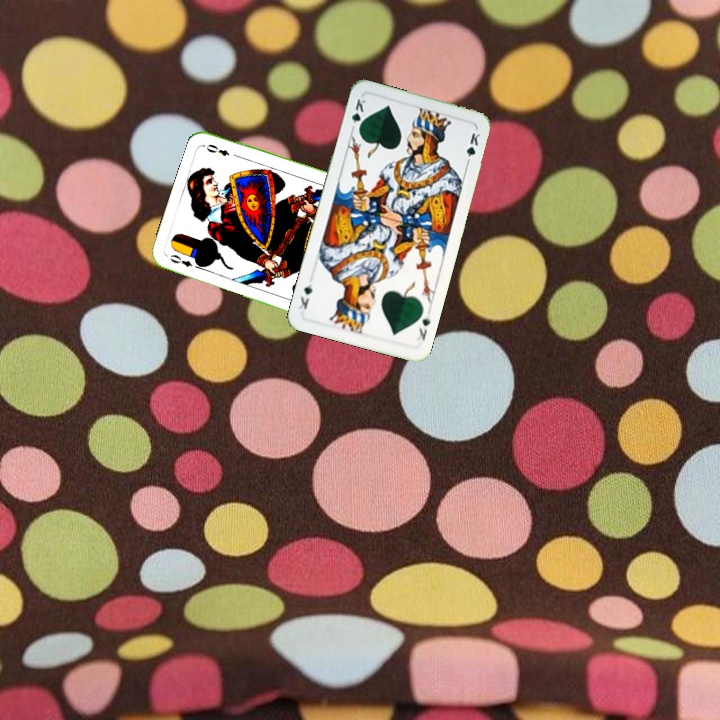EO: (166, 250, 204, 272)
GK: (347, 95, 368, 135), (413, 307, 433, 343)
